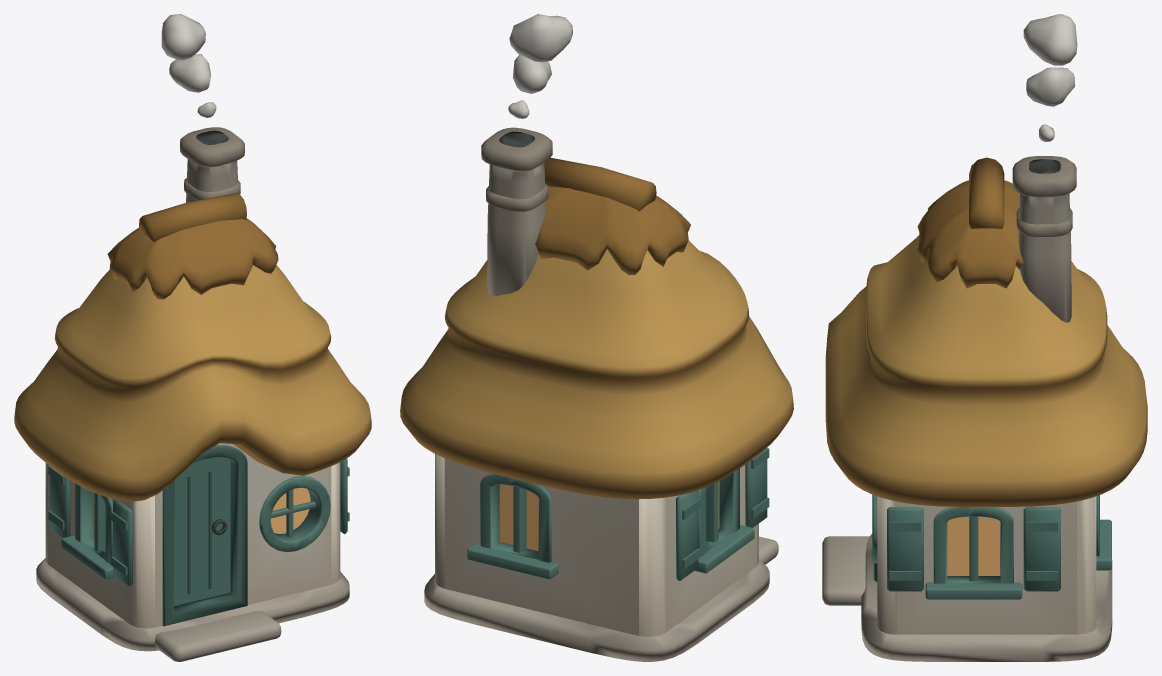
File: BLD_Cottage_Small_A.fbx
The picture shows the model from 3 angles, left to right: view 1: azimuth 30°, elevation 25°; view 2: azimuth 150°, elevation 25°; view 3: azimuth 270°, elevation 25°; orthographic projection. The views are drawn at different scales.
Visible parts, largest first — view 1: BLD_Cottage_Small_A_Body_LOD0, BLD_Cottage_Small_A_Puff3_LOD0, BLD_Cottage_Small_A_Puff2_LOD0; view 2: BLD_Cottage_Small_A_Body_LOD0, BLD_Cottage_Small_A_Puff3_LOD0, BLD_Cottage_Small_A_Puff2_LOD0; view 3: BLD_Cottage_Small_A_Body_LOD0, BLD_Cottage_Small_A_Puff3_LOD0, BLD_Cottage_Small_A_Puff2_LOD0.
Part boxes in pixels (<box>): BLD_Cottage_Small_A_Body_LOD0: <box>14,127,371,661</box>; BLD_Cottage_Small_A_Puff3_LOD0: <box>161,14,205,60</box>; BLD_Cottage_Small_A_Puff2_LOD0: <box>169,54,210,92</box>; BLD_Cottage_Small_A_Body_LOD0: <box>400,127,793,661</box>; BLD_Cottage_Small_A_Puff3_LOD0: <box>509,14,572,62</box>; BLD_Cottage_Small_A_Puff2_LOD0: <box>512,55,551,93</box>; BLD_Cottage_Small_A_Body_LOD0: <box>822,156,1147,661</box>; BLD_Cottage_Small_A_Puff3_LOD0: <box>1023,14,1077,65</box>; BLD_Cottage_Small_A_Puff2_LOD0: <box>1026,67,1074,106</box>.
Size of what is drawn, in the model's own units: 2.28 by 4.07 by 2.02.
